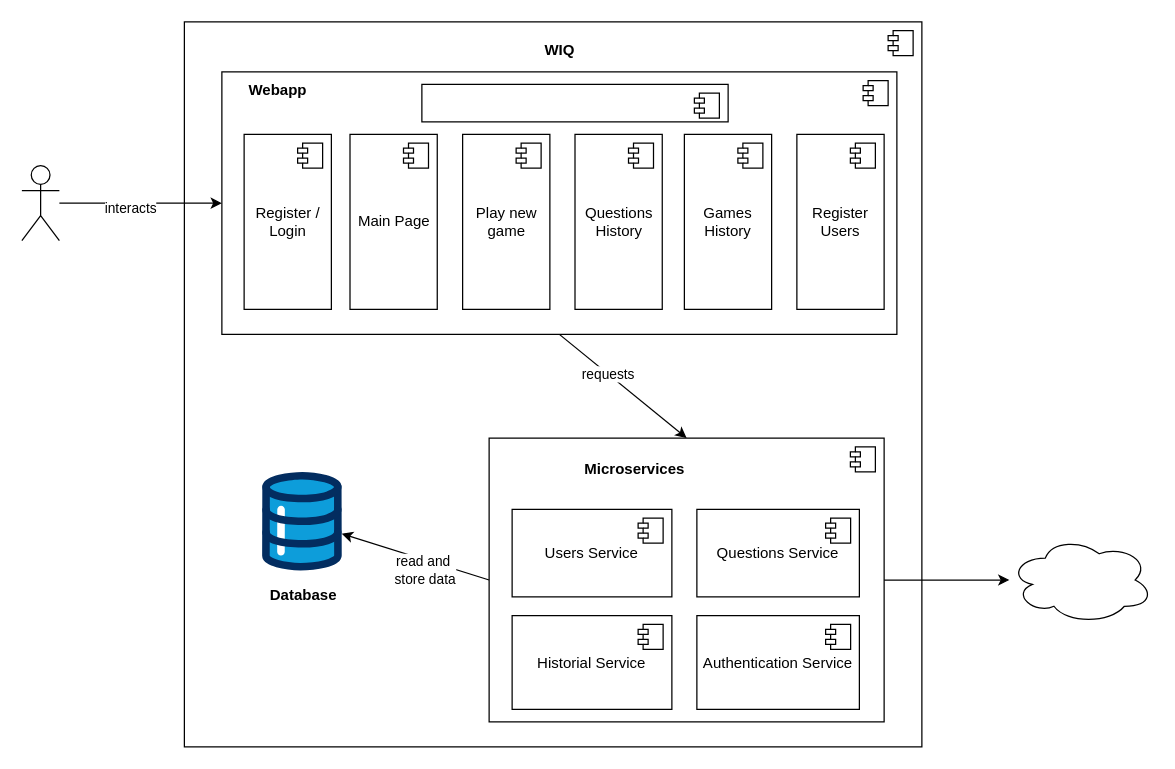
Image size: 1175x769. Some labels were removed from this diagram. Here are the shapes that lost their labels. From the top down, the centre of each, then its label:
At (574,102): "Menu".
At (40,202): "User".
At (1080,579): "Wikidata".
